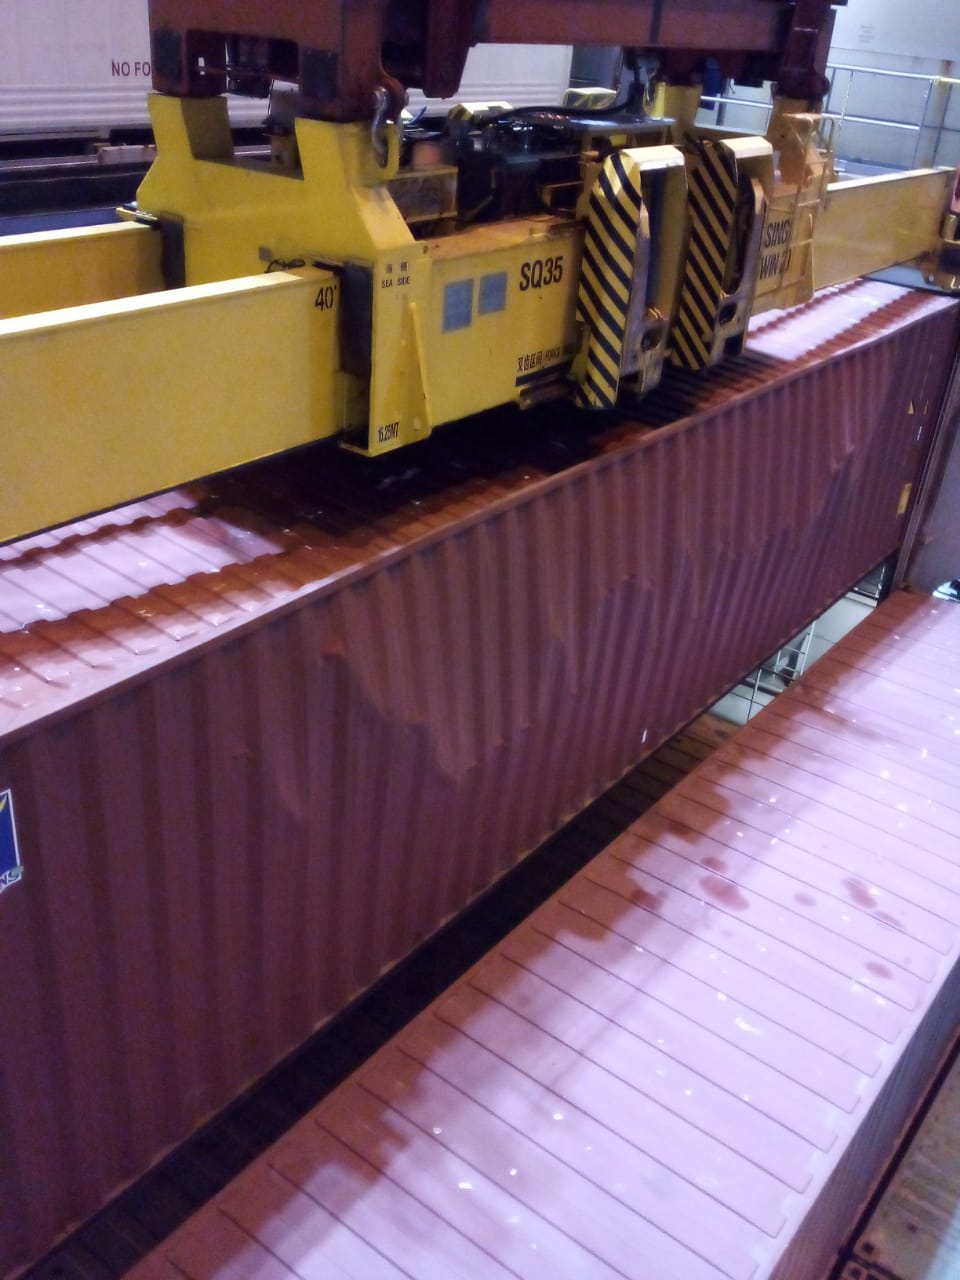bulged: (310, 419, 864, 849)
